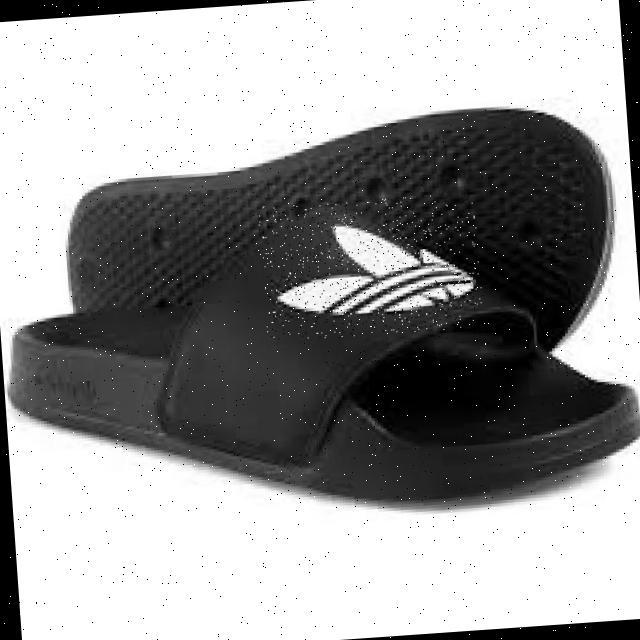Adidas: (257, 191, 485, 342)
